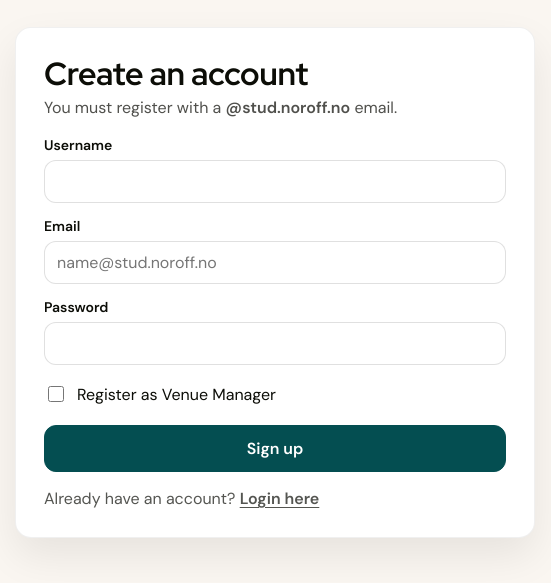
Test case: Register page › shows username validation error for short username
The width and height of the screenshot is (551, 583).
Step 1. Type "Al" into the field labelled "Username" → [275, 182], box x1=44 y1=160 x2=506 y2=203
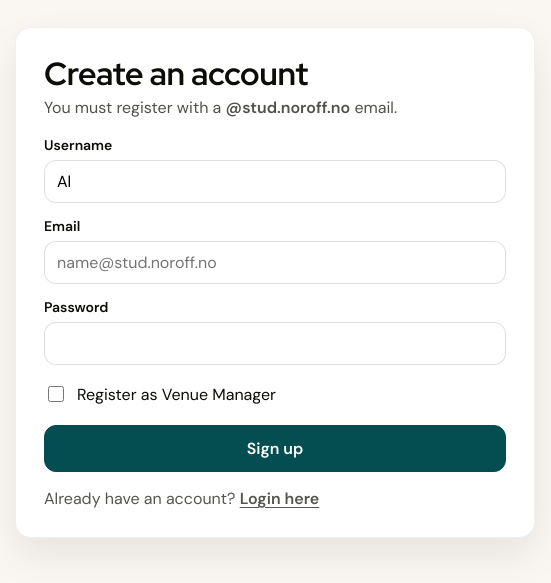
Step 2. Type "student@stud.noroff.no" into the field labelled "Email" → [275, 263], box x1=44 y1=241 x2=506 y2=284
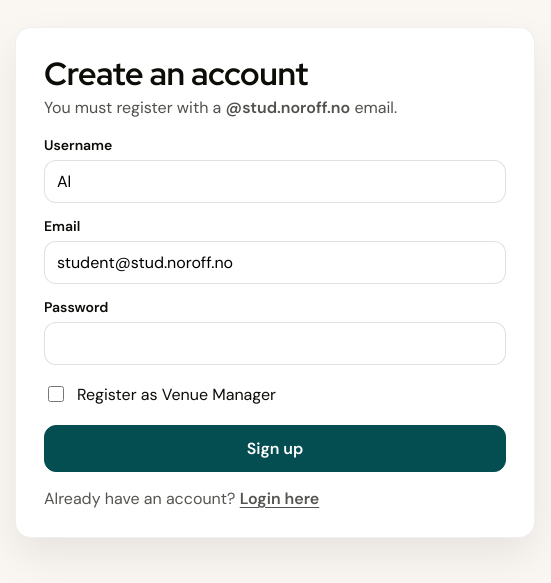
Step 3. Type "password123" into the password field labelled "Password" → [275, 344], box x1=44 y1=322 x2=506 y2=365
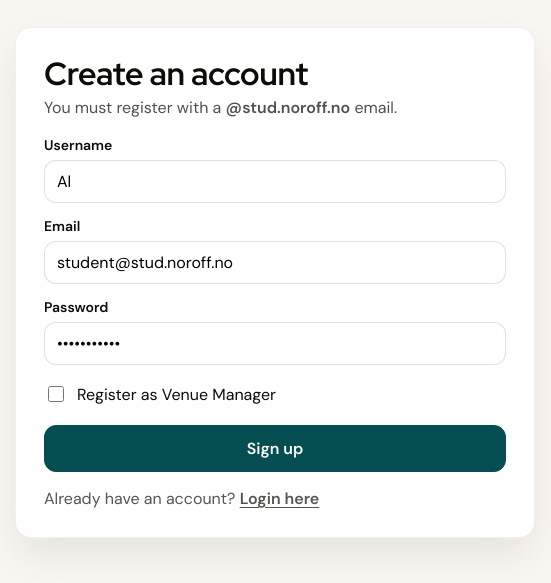
Step 4. Click the button "Sign up" → [275, 449], box x1=44 y1=425 x2=506 y2=472
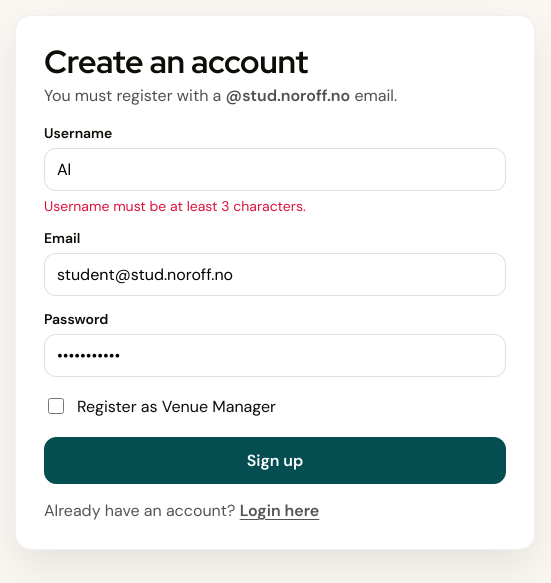
expect the text "Username must be at least 3 characters." is shown: met, box x1=44 y1=197 x2=306 y2=215
